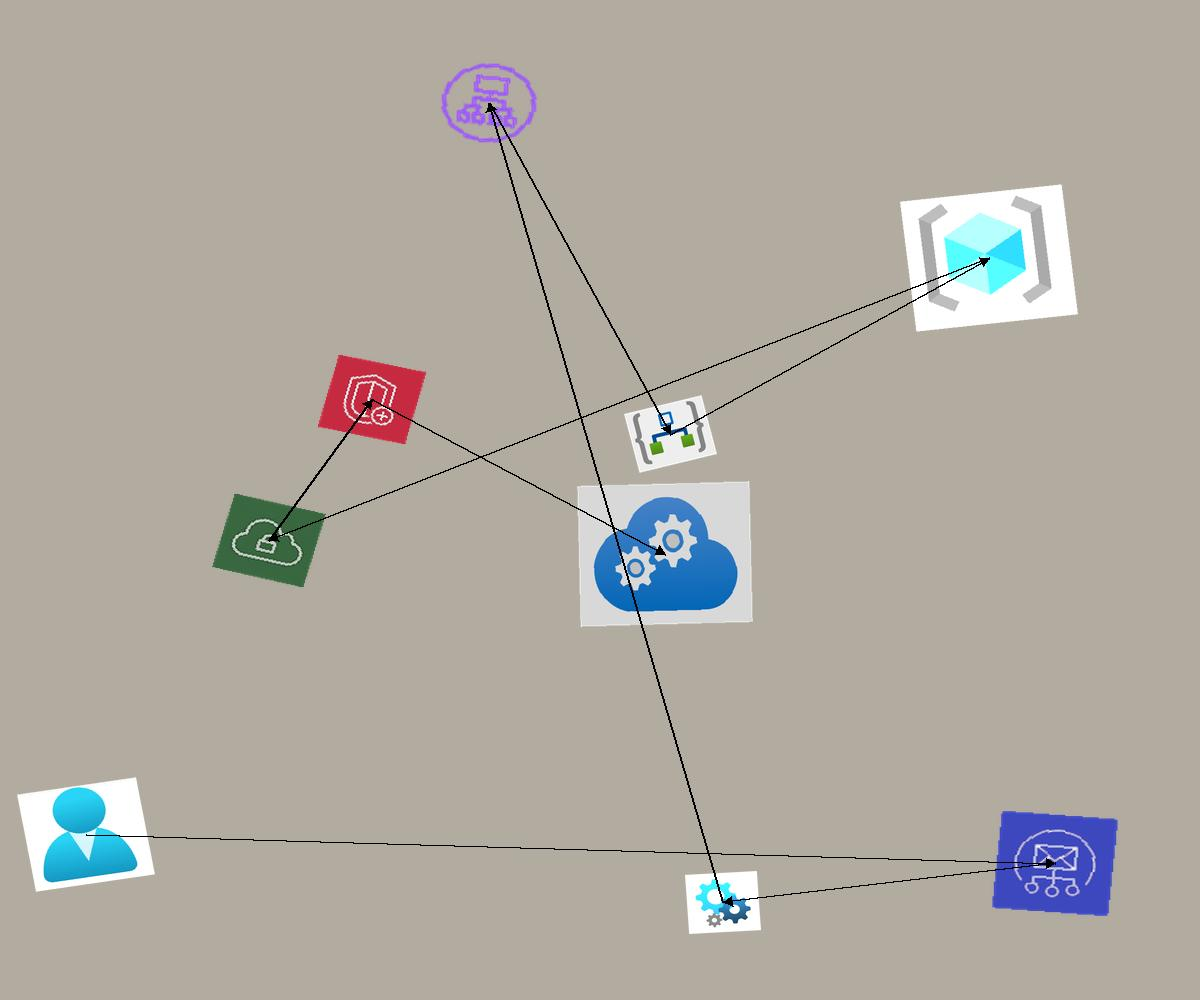AWS-Private_vpc: (212, 493, 326, 588)
AWS-Res_Elastic-Load-Balancing_Application-Load-Balancer: (429, 53, 549, 153)
AWS-Shield: (317, 354, 427, 445)
AWS-Simple-Email-Service: (991, 810, 1119, 917)
Azure_api: (685, 871, 761, 934)
Azure_cloud_services: (577, 481, 753, 627)
Azure_integration-204-Logic-Apps: (624, 395, 717, 473)
Azure_resource_group: (900, 184, 1078, 332)
Azure_users: (17, 777, 155, 892)
